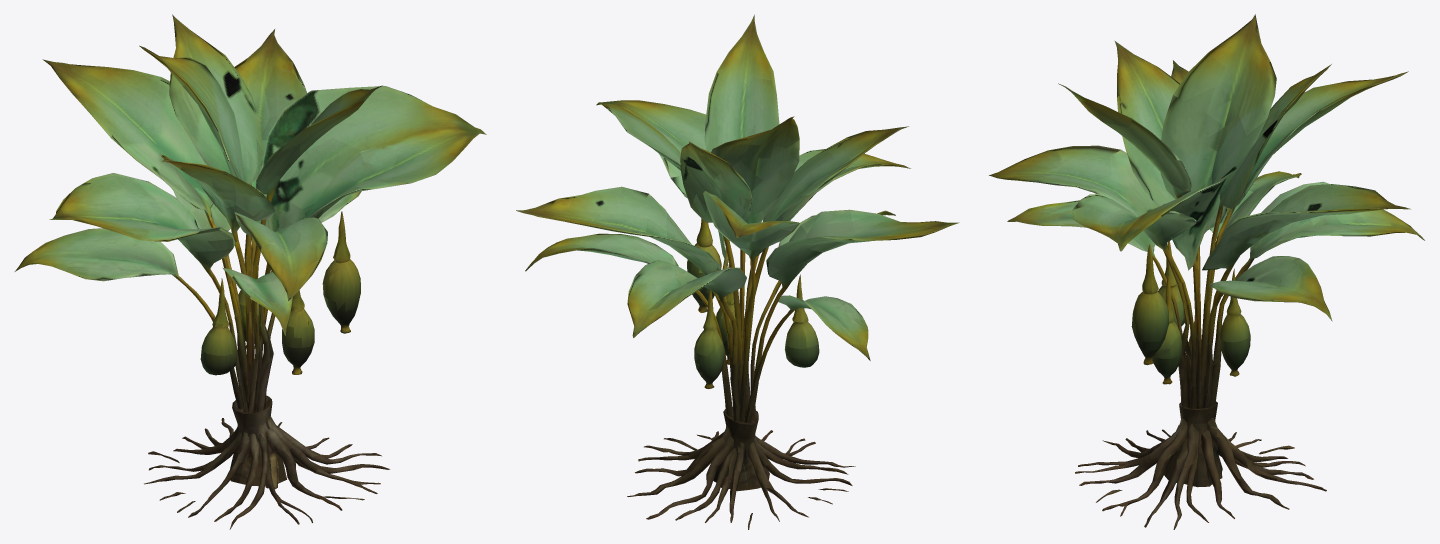
File: veg-seedpod.glb
The picture shows the model from 3 angles, left to right: view 1: azimuth 30°, elevation 25°; view 2: azimuth 150°, elevation 25°; view 3: azimuth 270°, elevation 25°; orthographic projection. The views are drawn at different scales.
Visible parts, largest first — view 1: Mesh_0; view 2: Mesh_0; view 3: Mesh_0.
Part boxes in pixels (x1,y1,x2,y2): Mesh_0: (14,14,486,529); Mesh_0: (516,14,959,529); Mesh_0: (989,14,1424,529).
Size of the model in its own units: 1 by 1 by 0.9434.
1 material, 1 textured.
